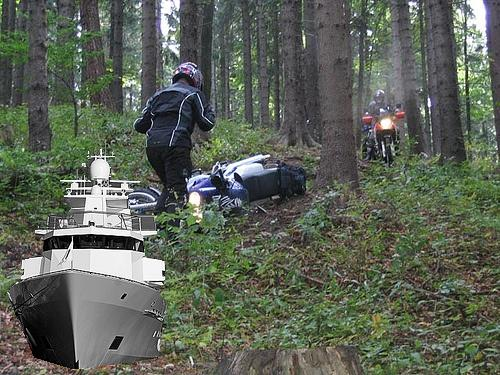tampered: (7, 140, 167, 369)
